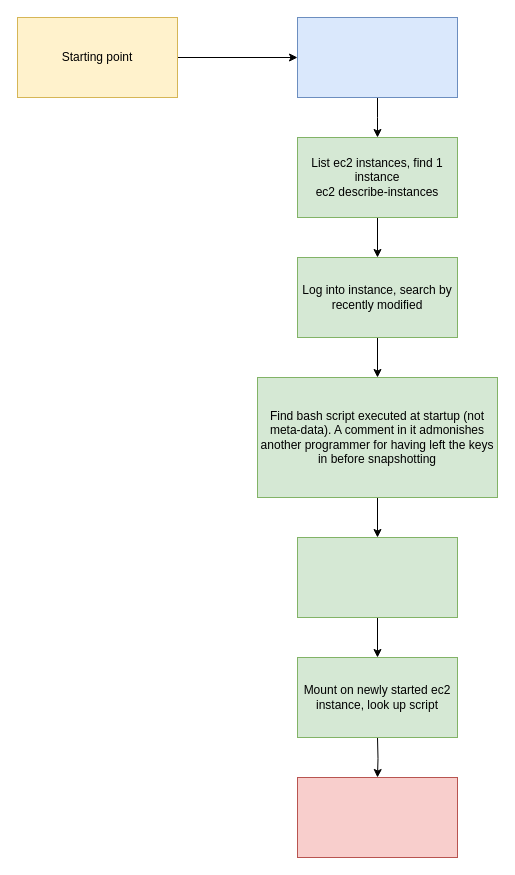
This 515x875 diagram has some shape labels left out. The shapes that lost their labels are listed below. From the top down, each one's centre as x and y in pixels, then its label:
At [377,57]: "Given keys for CLI and SSH passphrase/id file".
At [377,577]: "Go out, list snapshots of the instance, find 1".
At [377,817]: "Flag Admin keys".
